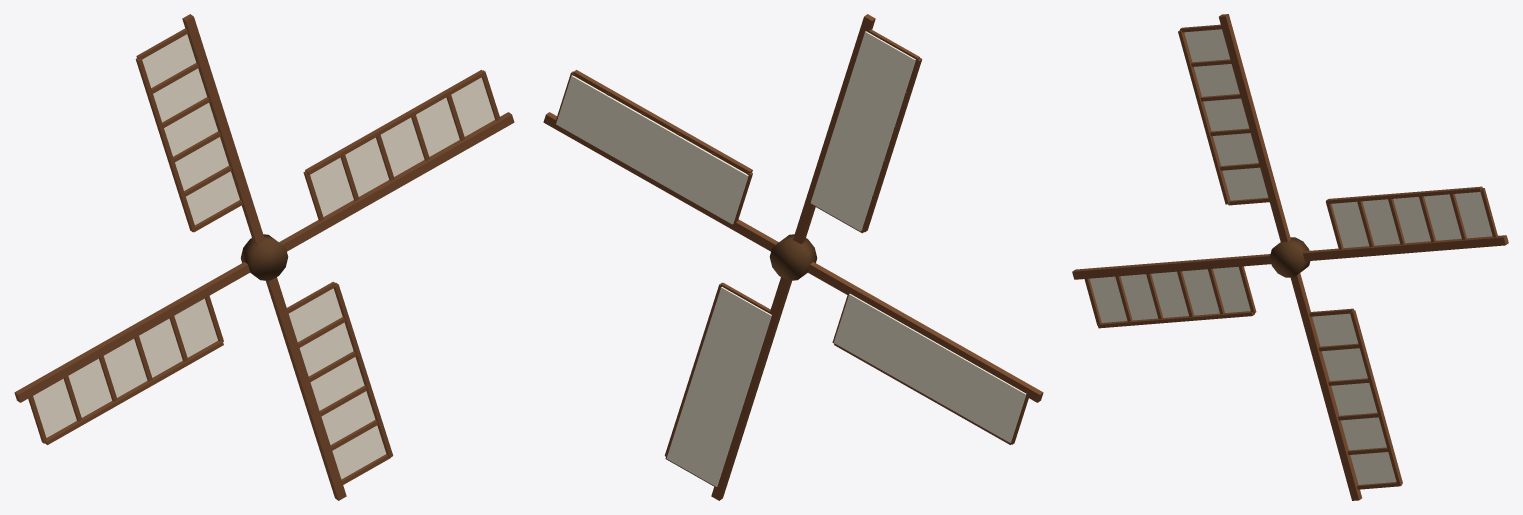
Rendered from mlyn-lopatky.glb.
3 renders of one model, left to right at view 1: azimuth 30°, elevation 25°; view 2: azimuth 150°, elevation 25°; view 3: azimuth 330°, elevation 25°, orthographic. The views are drawn at different scales.
Parts seen in each view (by area): view 1: mlyn-lopatky; view 2: mlyn-lopatky; view 3: mlyn-lopatky.
Boxes of the visible parts, x1,y1,x2,y2 form: mlyn-lopatky: [14, 14, 514, 500]; mlyn-lopatky: [543, 14, 1043, 500]; mlyn-lopatky: [1072, 14, 1508, 500].
Size of the model in its own units: 8.07 by 8.07 by 0.3.
